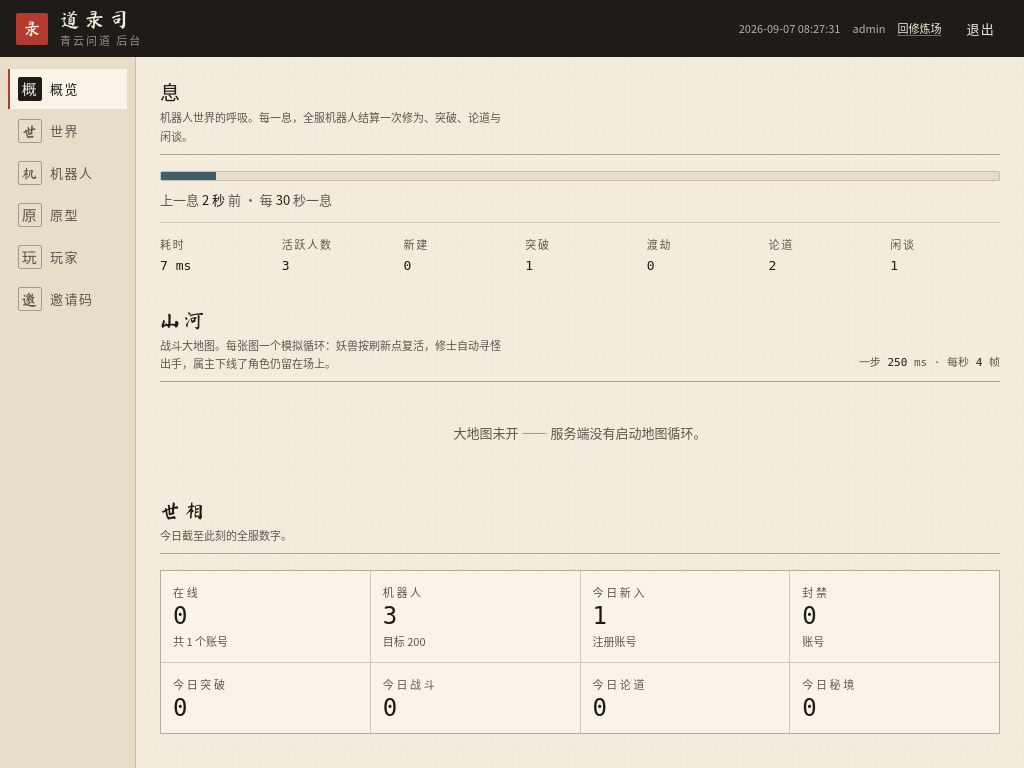
admin panel › sends only the knobs the operator actually changed
Click the button "世 世界" at (68, 131), box [8,111,127,151]
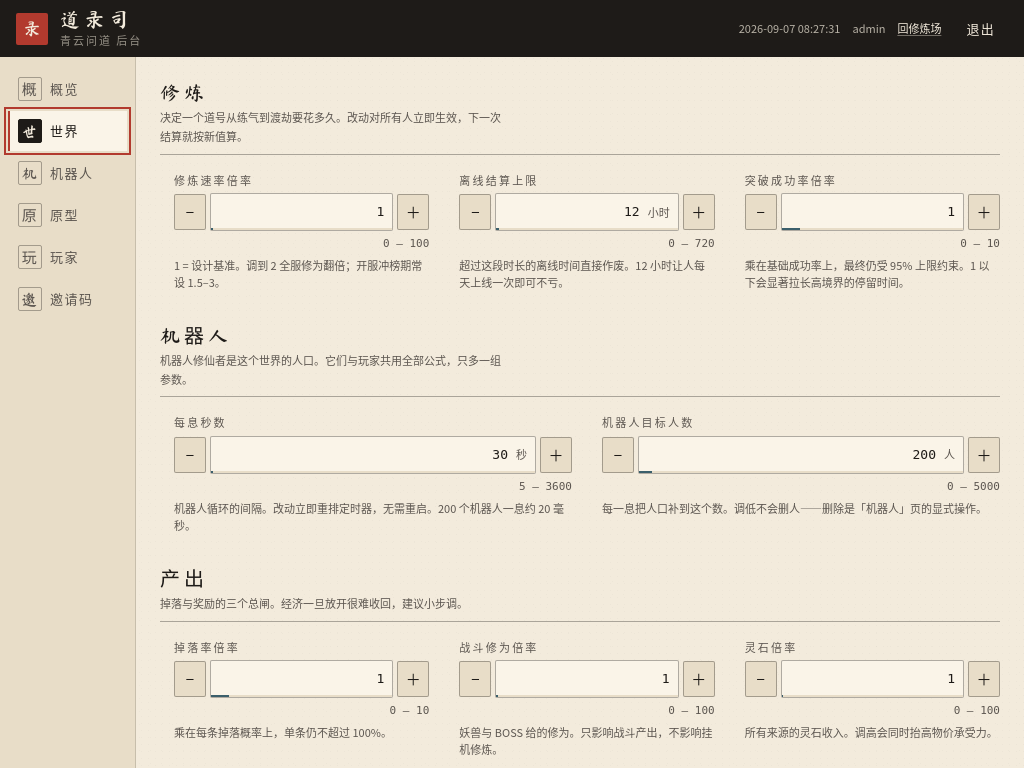
The label also names the stepper buttons, so the query is pinned to the input.
Replace the text in the number field named "每息秒数" below "每息秒数" with "45" at (364, 454), box [211,436,516,472]
(page scrolled)
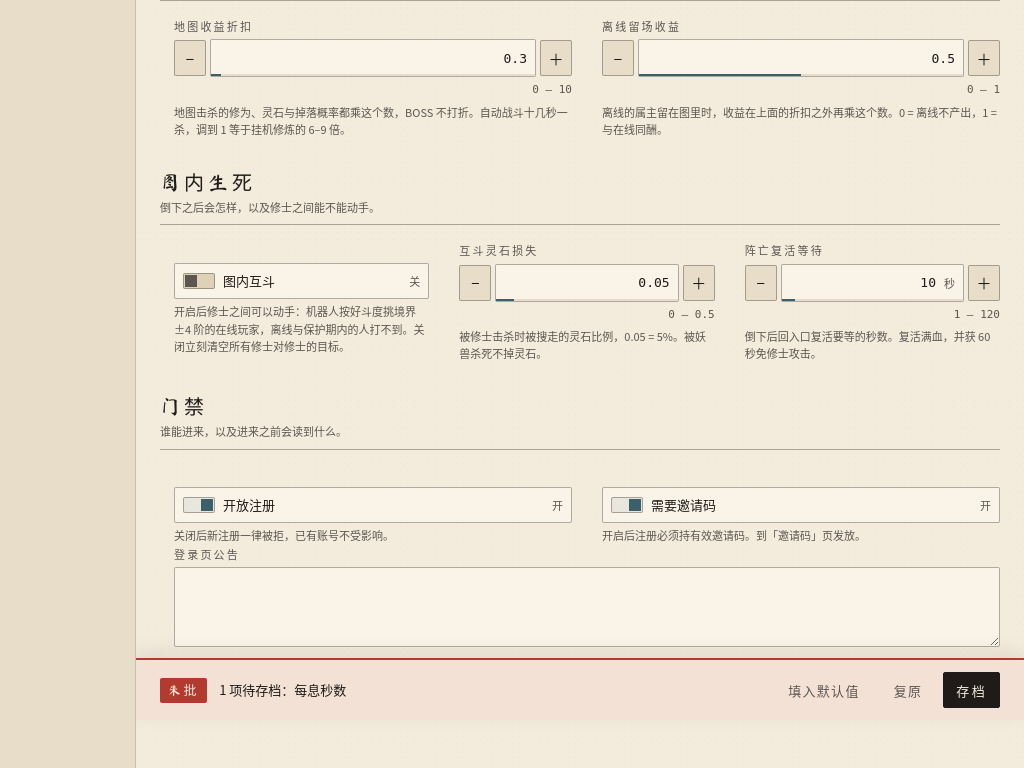
Check: the text "1 项待存档：每息秒数" is shown, box [219,680,346,699]
Click the button "存档" at (972, 690), box [943,672,1000,708]
(page scrolled)
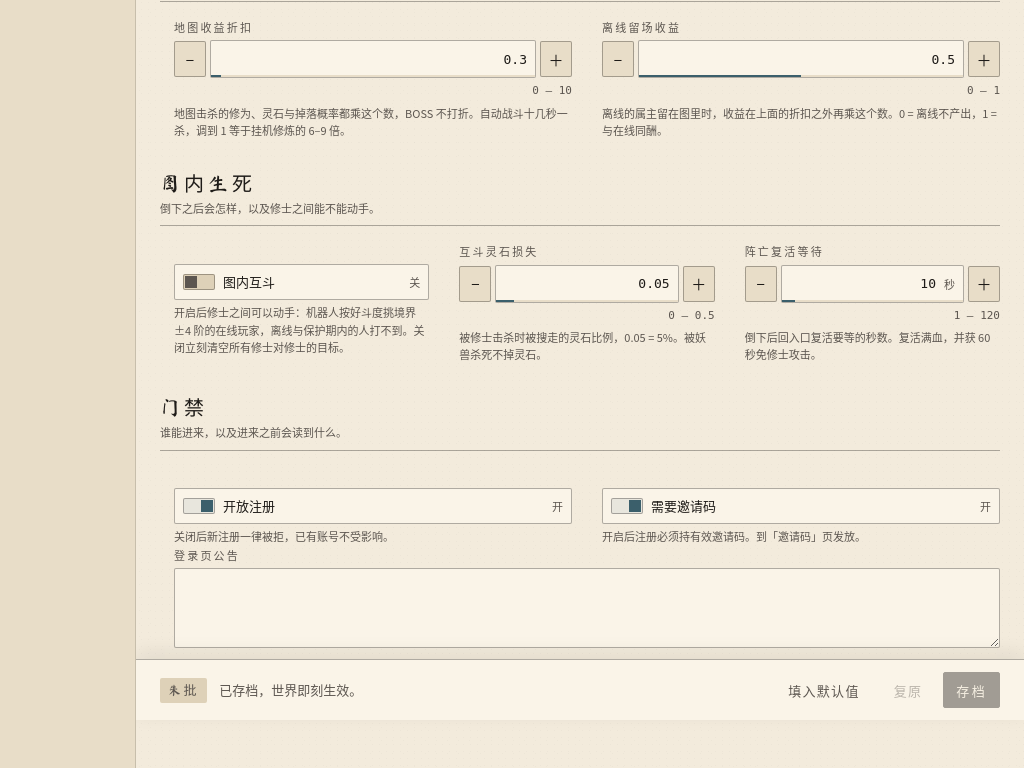
Check: the text "已存档，世界即刻生效。" is shown, box [219,680,362,699]
